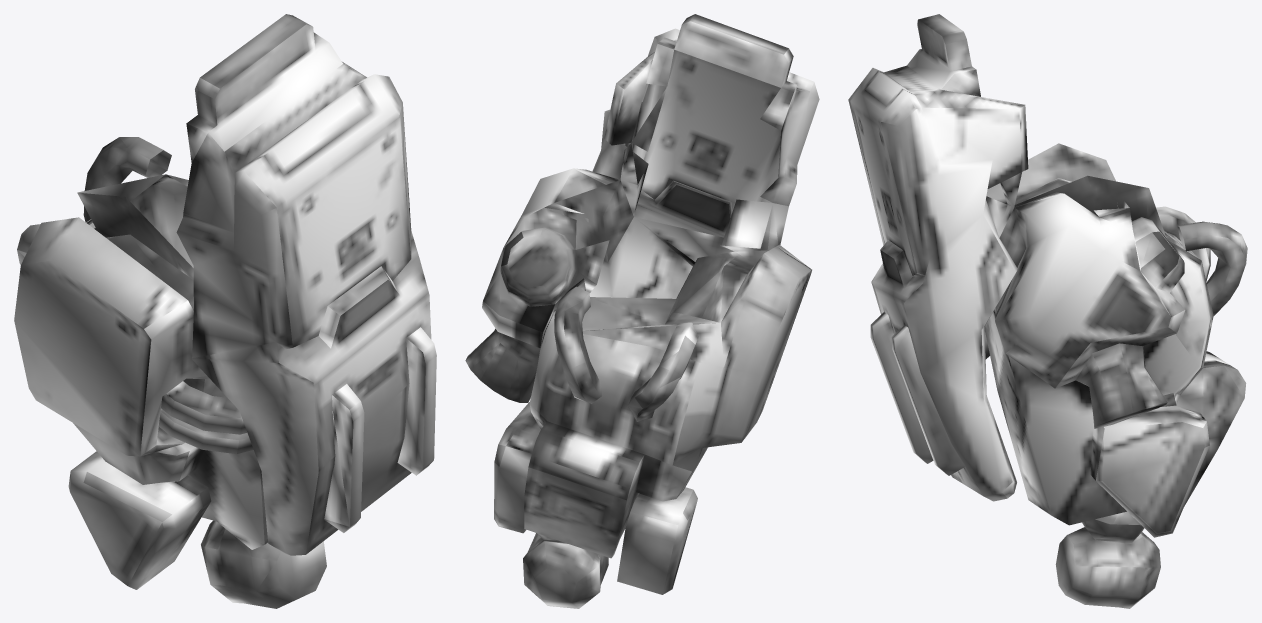
The model's file is l_shin.glb.
3 views of the same model, side by side, from view 1: azimuth 30°, elevation 25°; view 2: azimuth 150°, elevation 25°; view 3: azimuth 270°, elevation 25° (orthographic). The views are drawn at different scales.
Parts seen in each view (by area): view 1: l_shin; view 2: l_shin; view 3: l_shin.
Boxes of the visible parts, x1,y1,x2,y2 form: l_shin: (14,14,436,608); l_shin: (465,14,819,608); l_shin: (848,14,1247,608).
Size of the model in its own units: 0.7816 by 1.37 by 0.908.
Materials: 3 (3 with a texture image).
